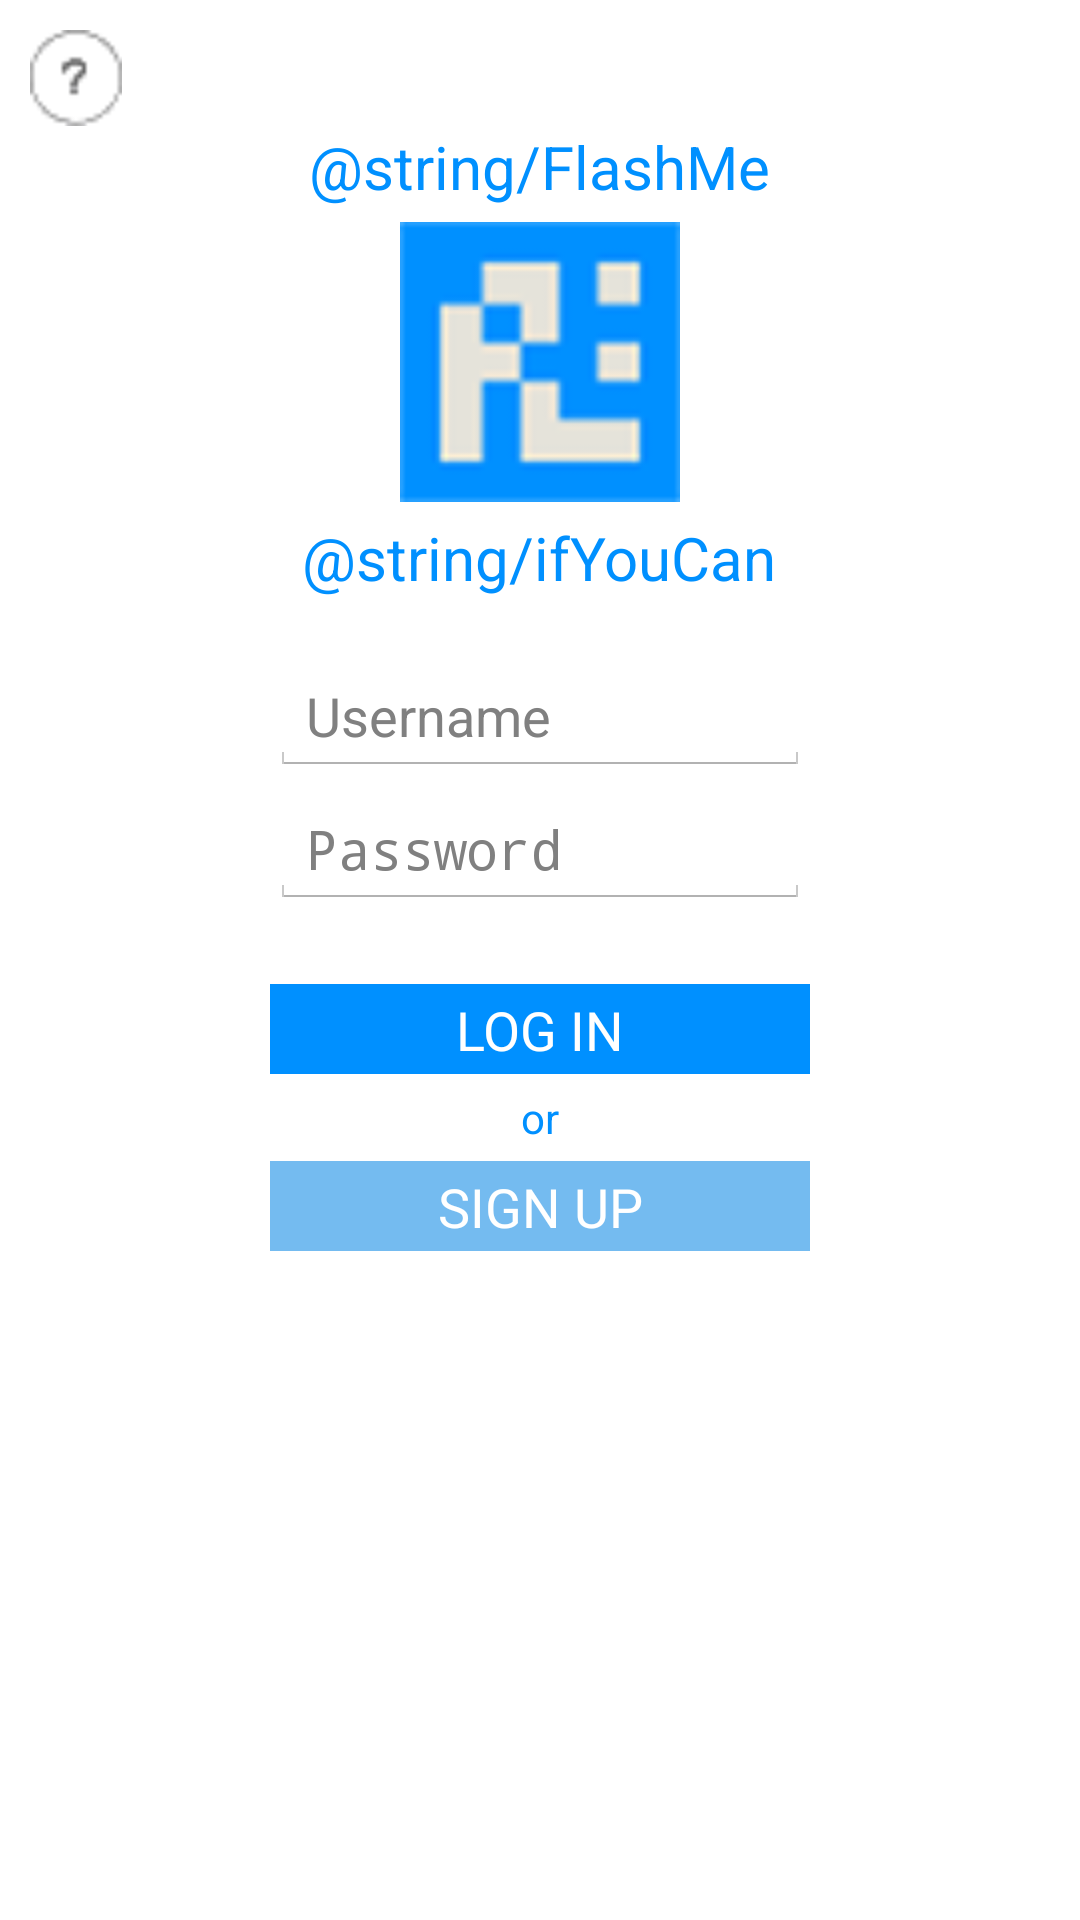

Icons on this 1080*1920 Android screen, each with the point to tap as [x,y]:
help: [76,78]
